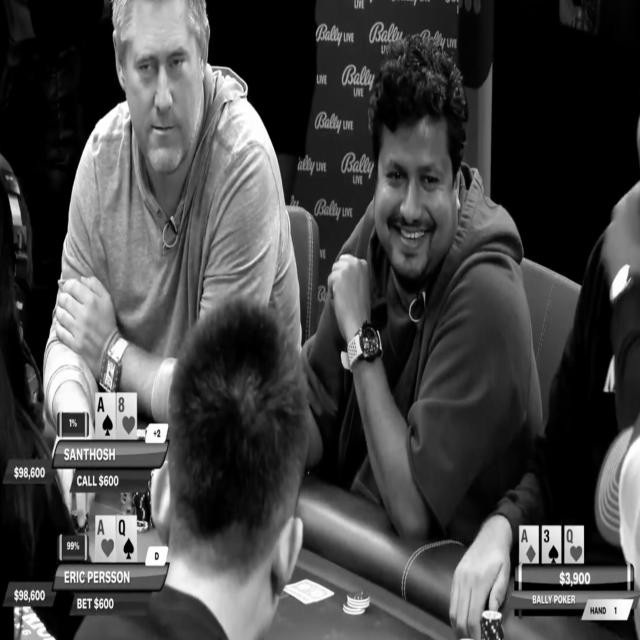3S: (541, 525, 562, 567)
8H: (115, 391, 137, 441)
AD: (518, 523, 540, 565)
AH: (95, 514, 116, 562)
AS: (95, 394, 116, 439)
QH: (563, 522, 584, 566)
QS: (117, 516, 138, 564)
